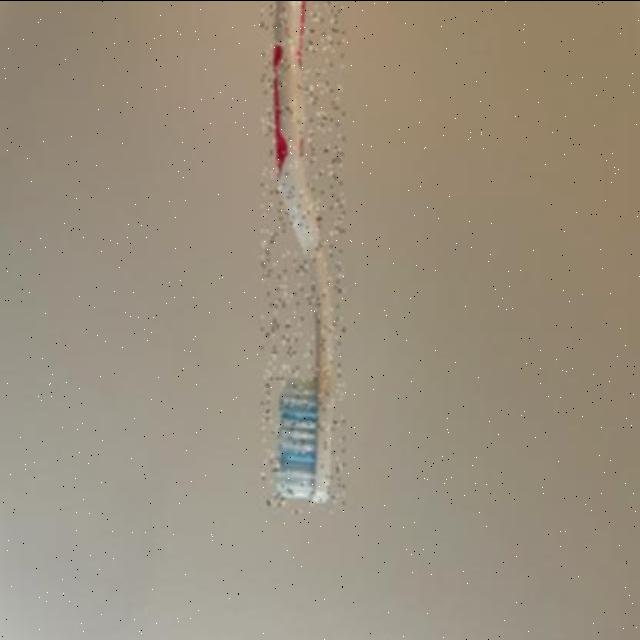toothbrush: (262, 0, 344, 512)
